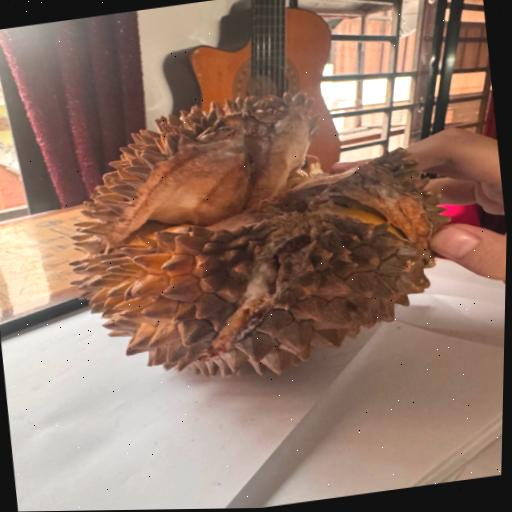rot: (15, 35, 484, 410)
